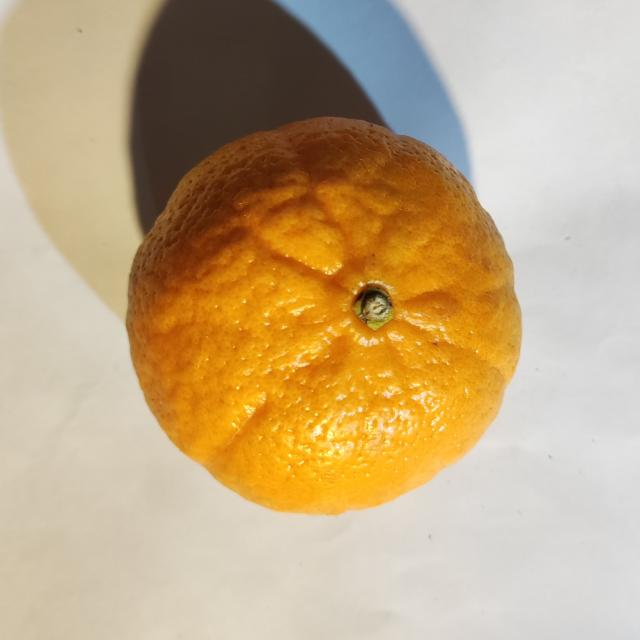orange: (127, 118, 520, 513)
